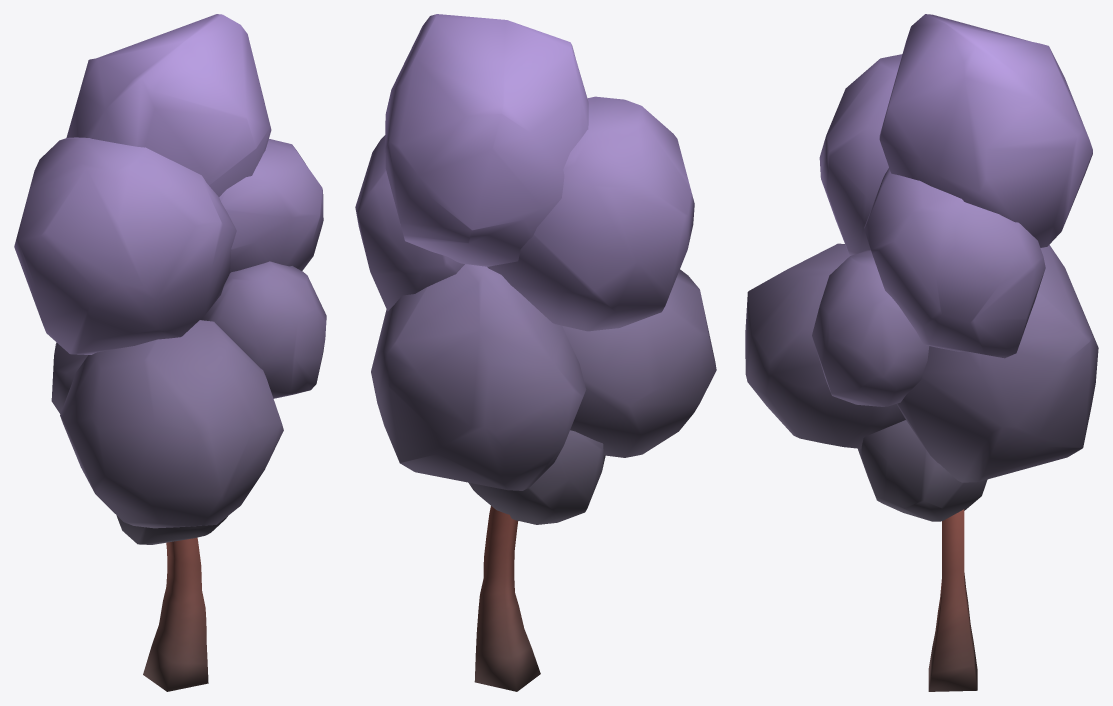
3 views of the same model, side by side, from view 1: azimuth 30°, elevation 25°; view 2: azimuth 150°, elevation 25°; view 3: azimuth 270°, elevation 25° (orthographic). The views are drawn at different scales.
Parts seen in each view (by area): view 1: Vert.025; view 2: Vert.025; view 3: Vert.025.
Boxes of the visible parts, x1,y1,x2,y2 form: Vert.025: (14, 14, 326, 691); Vert.025: (355, 14, 716, 691); Vert.025: (745, 14, 1098, 691).
Bounding box in the file's own units: 2.79 × 5.57 × 2.69.
Materials: 1 (1 with a texture image).
